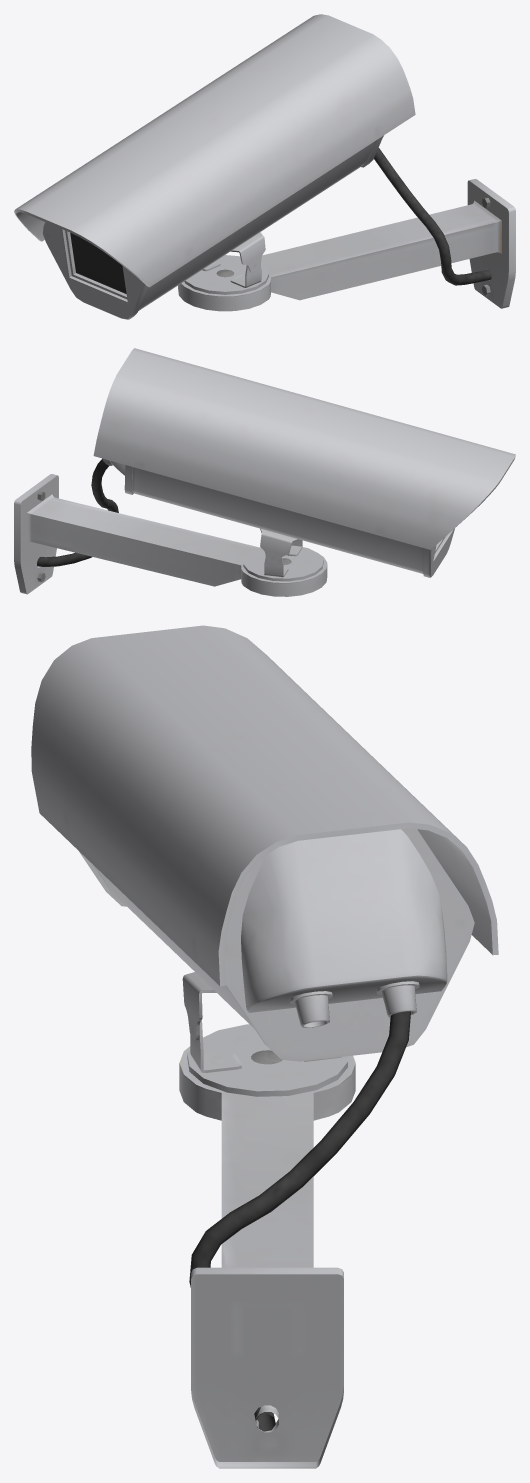
Rendered from SM_SecurityCamera.fbx.
3 views of the same model, one above another, from view 1: azimuth 30°, elevation 25°; view 2: azimuth 150°, elevation 25°; view 3: azimuth 270°, elevation 25° (orthographic). The views are drawn at different scales.
Visible parts, largest first — view 1: SM_SecurityCamera_LOD0; view 2: SM_SecurityCamera_LOD0; view 3: SM_SecurityCamera_LOD0.
Boxes of the visible parts, <box> form: SM_SecurityCamera_LOD0: <box>14,14,515,319</box>; SM_SecurityCamera_LOD0: <box>14,348,515,596</box>; SM_SecurityCamera_LOD0: <box>31,625,498,1468</box>.
Size of the model in its own units: 68.15 by 30.53 by 38.18.
Materials: 1 (1 with a texture image).
